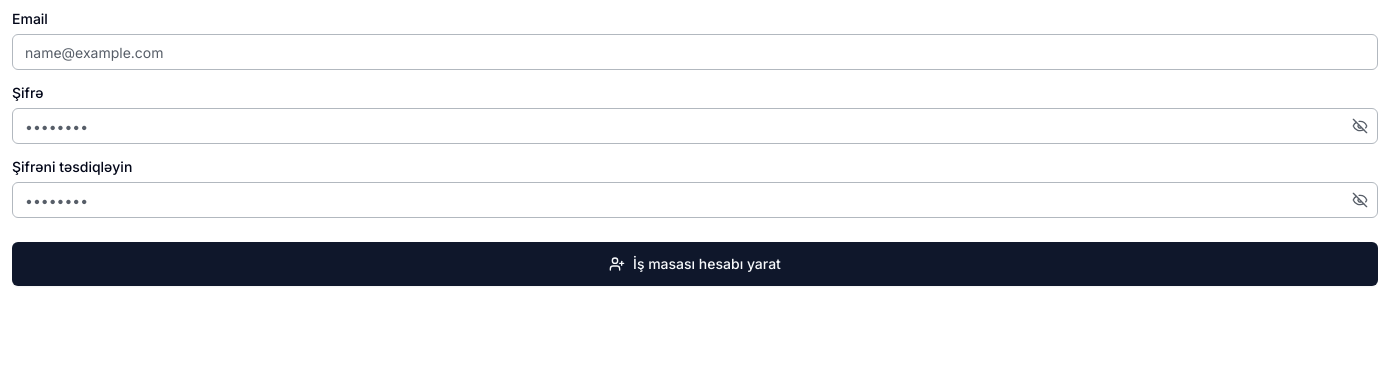
Scenario: SignUpForm › shows validation messages and prevents invalid submit
The image size is (1390, 387).
Click the button "İş masası hesabı yarat".
click(695, 264)  # box [12, 242, 1378, 286]
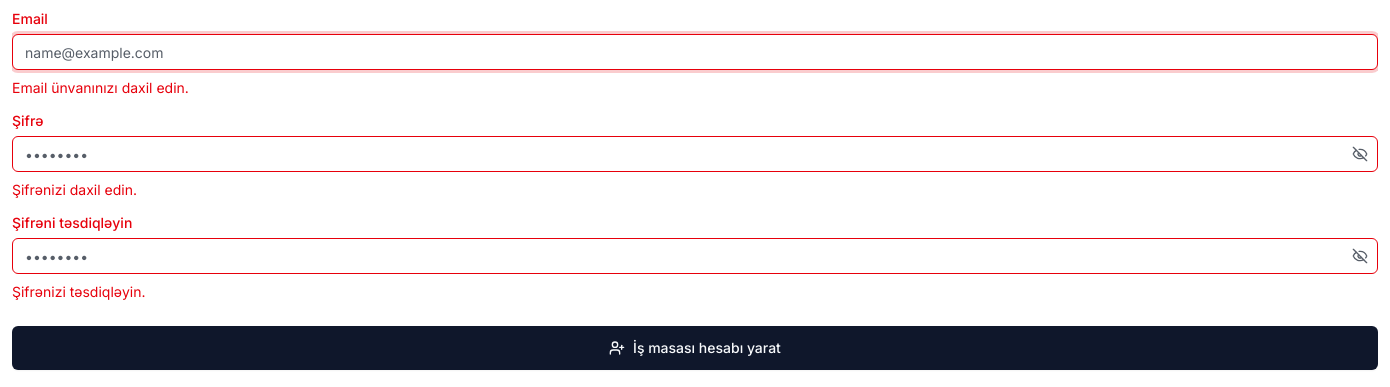
Result: the text "Email ünvanınızı daxil edin." is shown at [12, 79, 189, 96]
